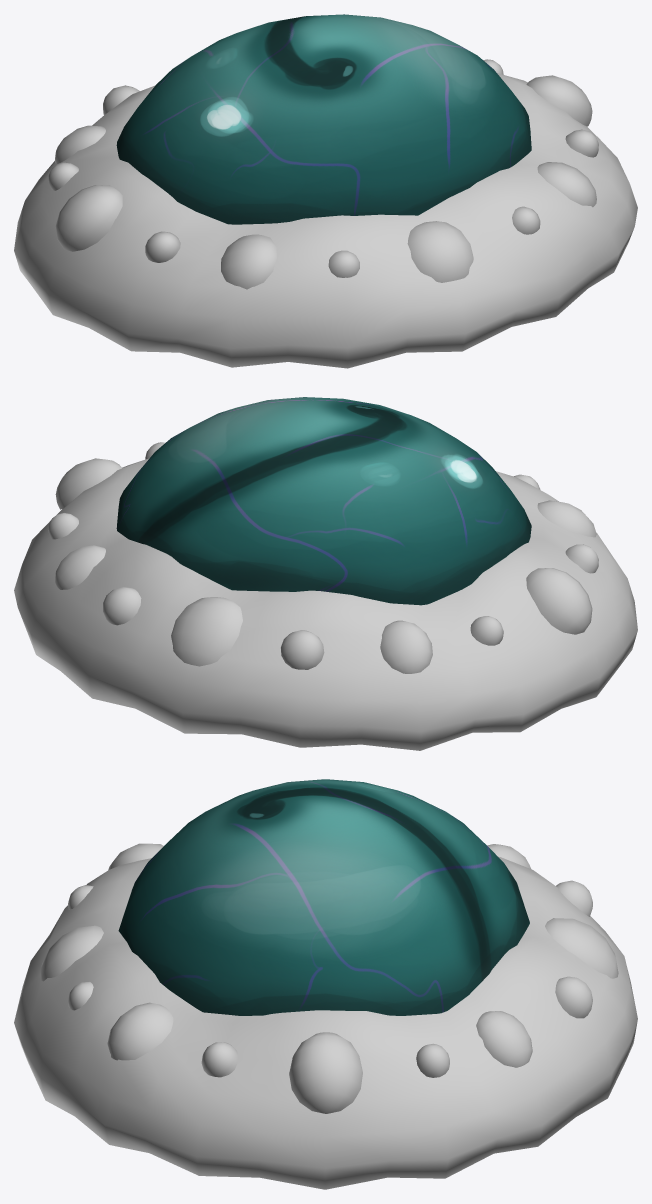
The model's file is egg_1_1.obj.
3 views of the same model, one above another, from view 1: azimuth 30°, elevation 25°; view 2: azimuth 150°, elevation 25°; view 3: azimuth 270°, elevation 25° (orthographic). The views are drawn at different scales.
Parts seen in each view (by area): view 1: RingCollar, core, Gems; view 2: RingCollar, core, Gems; view 3: RingCollar, core, Gems.
Boxes of the visible parts, x1,y1,x2,y2 form: RingCollar: (14, 73, 637, 368); core: (116, 14, 531, 224); Gems: (48, 59, 598, 289); RingCollar: (14, 458, 637, 750); core: (116, 397, 531, 605); Gems: (48, 442, 598, 673); RingCollar: (14, 856, 637, 1189); core: (118, 779, 529, 1015); Gems: (40, 843, 618, 1113).
Size of the model in its own units: 66.7 by 33.85 by 59.22.
